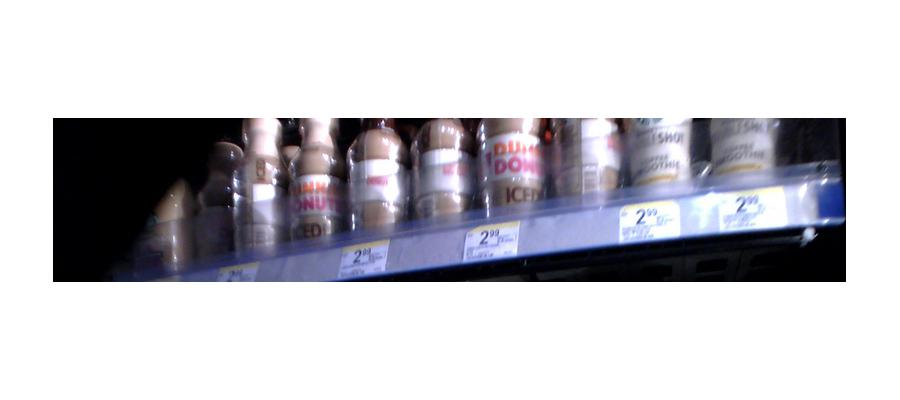bottle: (236, 107, 285, 258), (343, 119, 406, 234), (285, 116, 341, 242), (411, 118, 473, 221), (481, 112, 543, 212), (554, 112, 623, 201), (628, 111, 696, 195), (191, 134, 235, 257), (713, 109, 779, 185), (150, 162, 186, 274)
